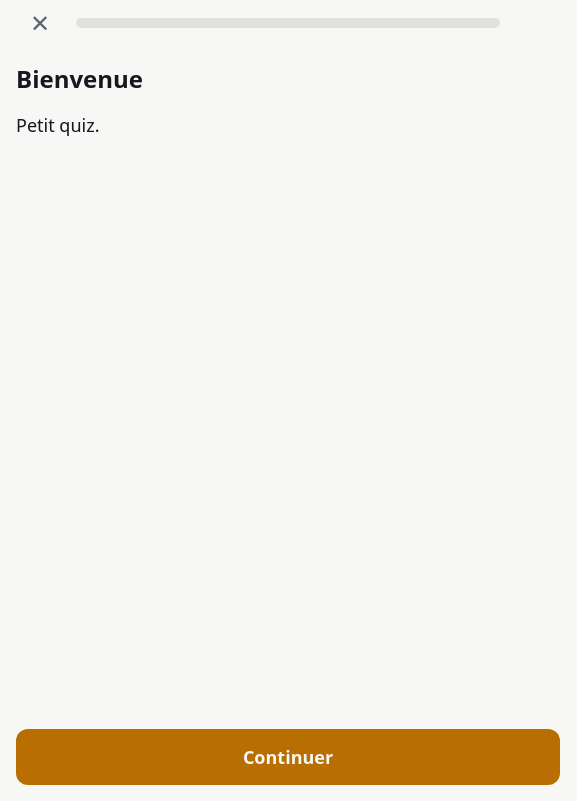
Test: LessonRunner — « Quelle est cette note ? » › mauvaise réponse : montre la bonne note et attend « Suivant »
The width and height of the screenshot is (577, 801).
Click the button "Continuer". click: point(288, 757)
box: [16,729,560,785]
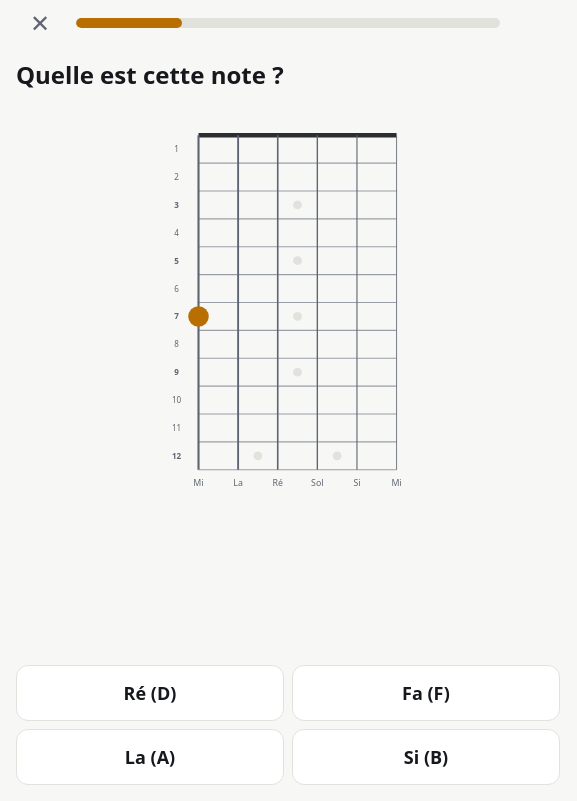
Click the button "Ré (D)". click: point(150, 693)
box: [16,665,284,721]
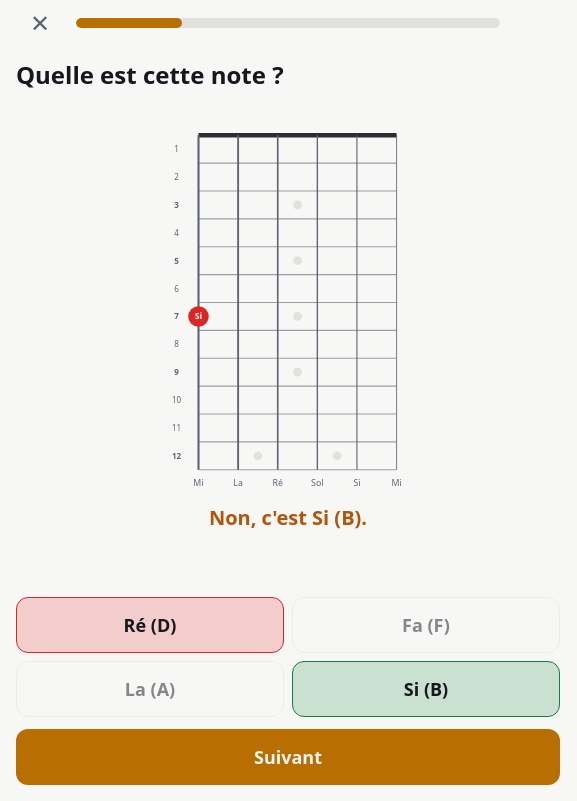
Check: the text with test id "feedback" shows "Non, c'est", box [209,504,367,531]
Check: the button "Suivant" is shown, box [16,729,560,785]
